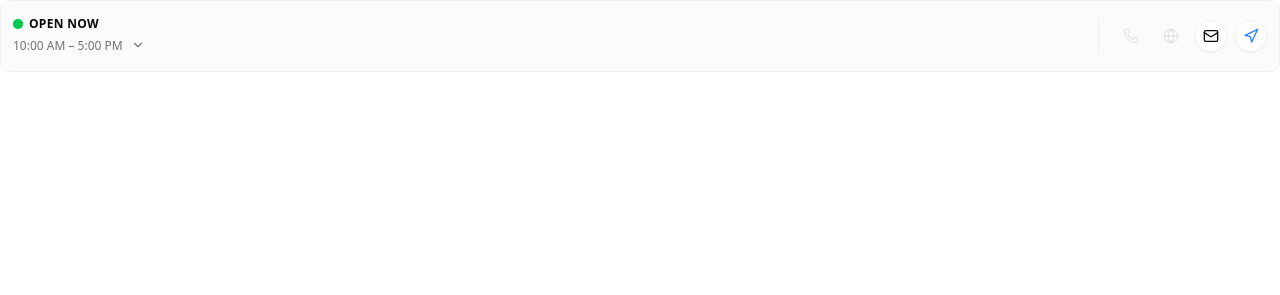
Scenario: WineryInfoCard › toggles weekly hours dropdown on click and displays open status
Expected: the text "Open Now" is shown, [29,16,99,32]
Expected: the text "Weekly Hours" is not shown
Click the button with test id "hours-toggle". click: (138, 45)
box: [127,34,149,56]
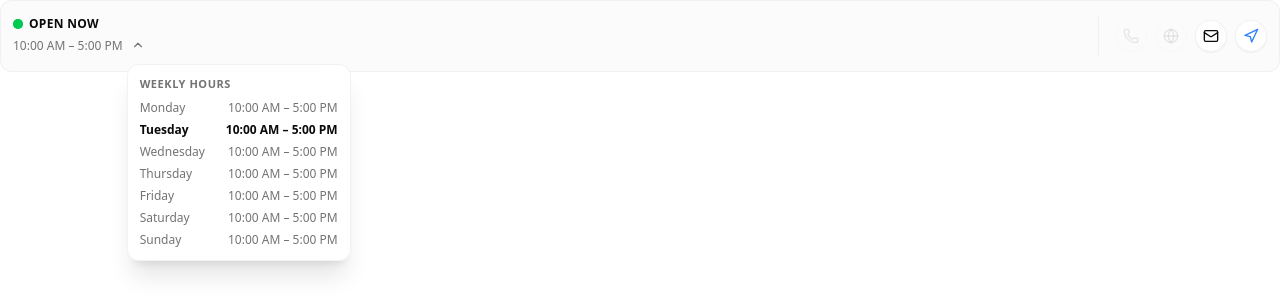
Expected: the text "Weekly Hours" is shown, [140,76,231,91]
Expected: the text "Monday" is shown, [140,100,186,116]
Click the button with test id "hours-toggle". click: (138, 45)
box: [127,34,149,56]
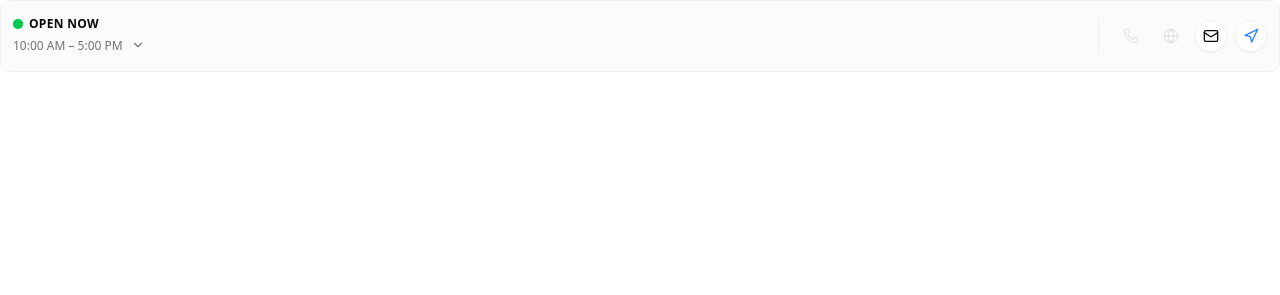
Expected: the text "Weekly Hours" is gone
